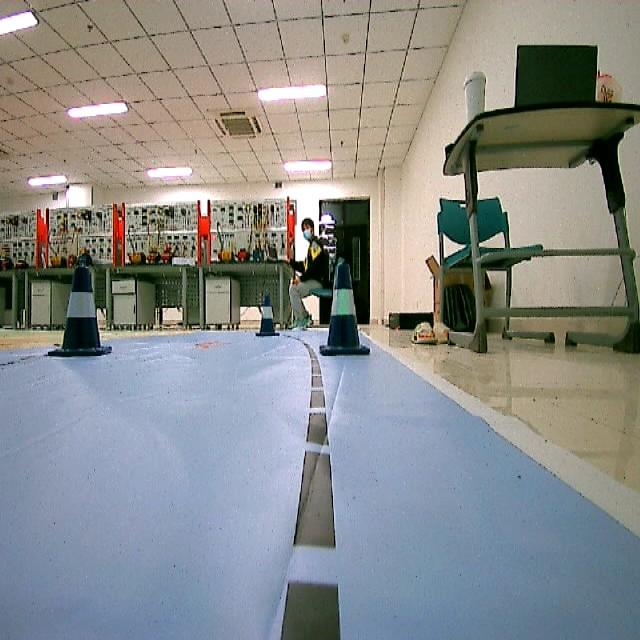obstacle: (49, 260, 110, 364), (321, 260, 370, 355), (255, 290, 278, 342)
